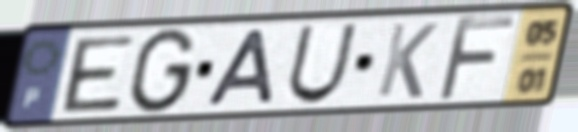A: (201, 27, 276, 110)
E: (60, 33, 138, 116)
F: (433, 14, 517, 104)
G: (124, 26, 200, 117)
K: (373, 21, 441, 101)
U: (284, 21, 361, 107)
